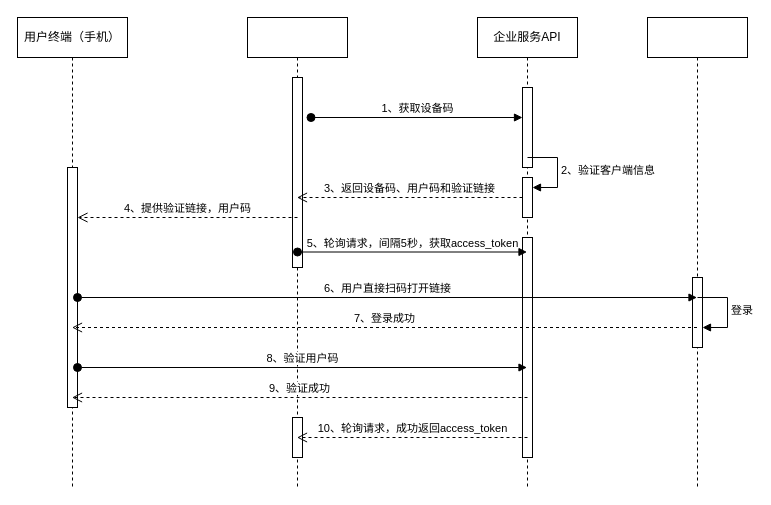
Image size: 771x505. Some labels were removed from this diagram. The shapes that lost their labels are listed below. From the top down, each one's centre as x and y in pixels, then its label:
At [297,252]: "设备终端".
At [697,252]: "企业服务平台".
